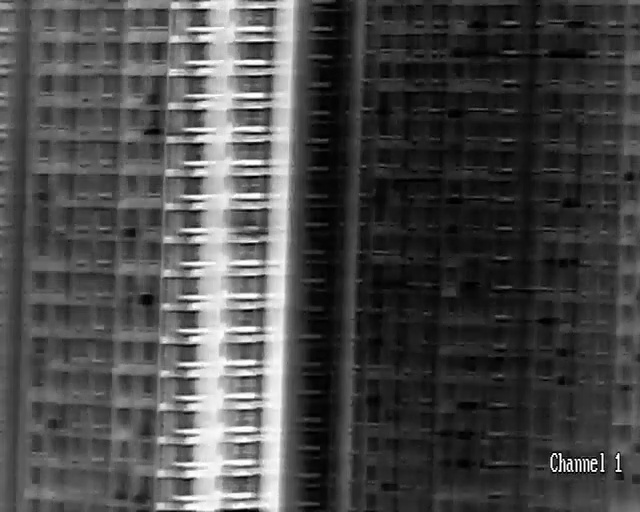uav: (238, 226, 257, 236)
